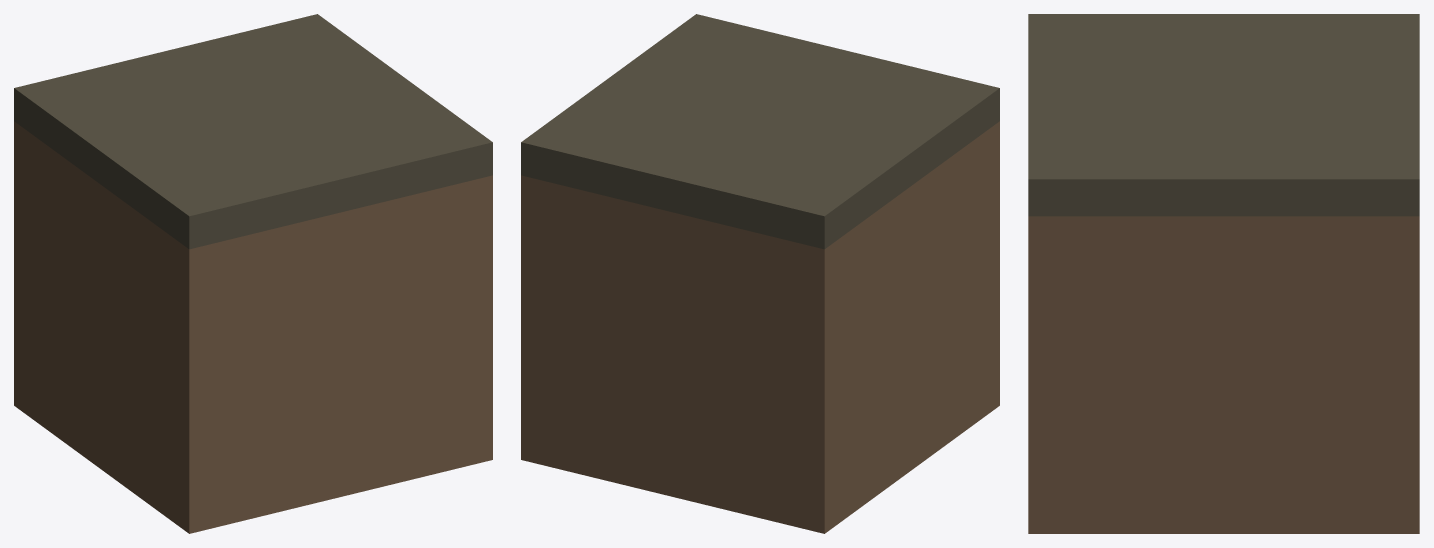
The model's file is Counter.fbx.
3 renders of one model, left to right at view 1: azimuth 30°, elevation 25°; view 2: azimuth 150°, elevation 25°; view 3: azimuth 270°, elevation 25°, orthographic. The views are drawn at different scales.
Visible parts, largest first — view 1: geo_Counter; view 2: geo_Counter; view 3: geo_Counter.
Part boxes in pixels (x1=…): geo_Counter: x1=14, y1=14, x2=492, y2=533; geo_Counter: x1=521, y1=14, x2=999, y2=533; geo_Counter: x1=1028, y1=14, x2=1419, y2=533.
Size of the model in its own units: 1 by 1 by 1.
